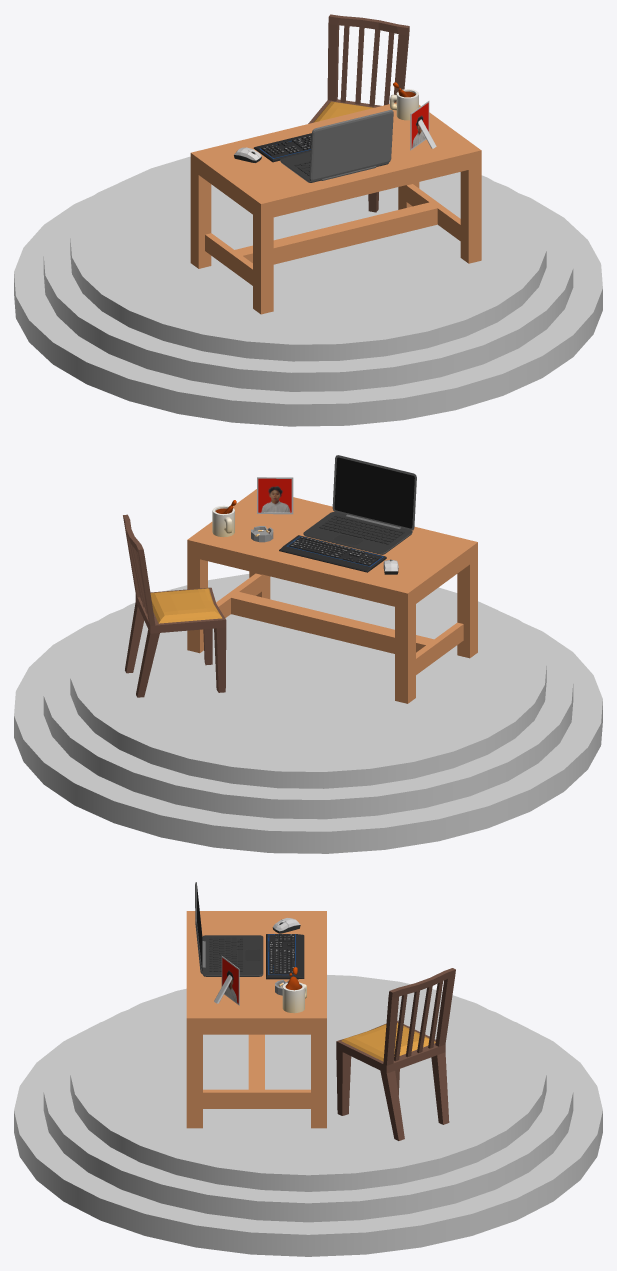
File: setupTeungku.gltf
3 renders of one model, top to bottom at view 1: azimuth 30°, elevation 25°; view 2: azimuth 150°, elevation 25°; view 3: azimuth 270°, elevation 25°, orthographic.
Parts seen in each view (by area): view 1: Project, Meja, Kursi, LapTop, Keyboard, Kopi, TeungkubgMerah; view 2: Project, Meja, LapTop, Kursi, Keyboard, TeungkubgMerah, Kopi; view 3: Project, Meja, Kursi, LapTop, Keyboard, Kopi, TeungkubgMerah.
Boxes of the visible parts, bbox=[...] form: Project: bbox=[14, 156, 602, 426]; Meja: bbox=[190, 102, 481, 314]; Kursi: bbox=[308, 14, 409, 212]; LapTop: bbox=[280, 110, 393, 182]; Keyboard: bbox=[253, 133, 311, 162]; Kopi: bbox=[390, 82, 418, 120]; TeungkubgMerah: bbox=[410, 101, 429, 150]; Project: bbox=[14, 574, 602, 853]; Meja: bbox=[187, 489, 477, 703]; LapTop: bbox=[303, 455, 416, 554]; Kursi: bbox=[123, 514, 226, 697]; Keyboard: bbox=[279, 535, 386, 572]; TeungkubgMerah: bbox=[257, 477, 293, 514]; Kopi: bbox=[212, 500, 236, 537]; Project: bbox=[14, 975, 602, 1256]; Meja: bbox=[186, 911, 326, 1128]; Kursi: bbox=[336, 968, 455, 1140]; LapTop: bbox=[195, 882, 263, 976]; Keyboard: bbox=[266, 934, 304, 979]; Kopi: bbox=[282, 967, 306, 1013]; TeungkubgMerah: bbox=[221, 956, 239, 1005].
Size of the model in its own units: 33.49 by 14.2 by 33.49.
16 materials, 4 textured.
